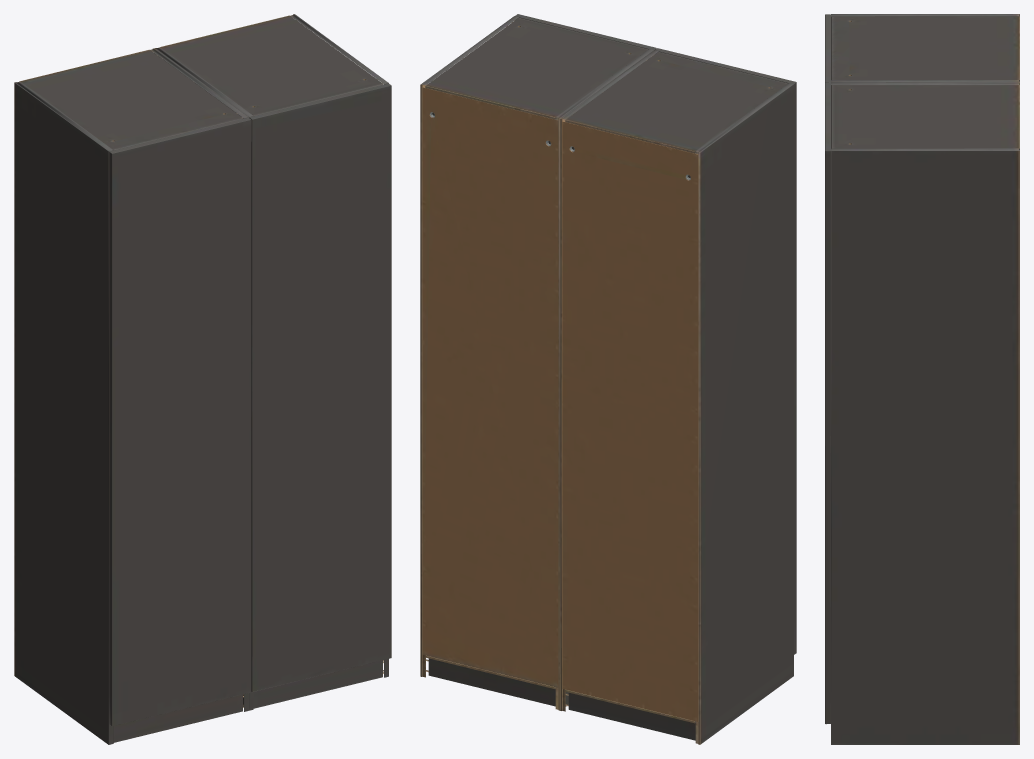
Rendered from 26 - PAX FORSAND Wardrobe combination - dark greydark grey 100x60x201 cm.glb.
3 views of the same model, side by side, from view 1: azimuth 30°, elevation 25°; view 2: azimuth 150°, elevation 25°; view 3: azimuth 270°, elevation 25° (orthographic).
Visible parts, largest first — view 1: 40510924-FORSAND001.001, 40510924-FORSAND001.003, model.001, model.003; view 2: model.001, model.003, 40510924-FORSAND001.001; view 3: model.003, model.001, 40510924-FORSAND001.003, 40510924-FORSAND001.001.
Part boxes in pixels (x1,y1,x2,y2): 40510924-FORSAND001.001: (109, 117, 251, 726); 40510924-FORSAND001.003: (249, 83, 391, 691); model.001: (14, 48, 248, 744); model.003: (155, 14, 388, 710); model.001: (560, 50, 793, 744); model.003: (420, 16, 653, 710); 40510924-FORSAND001.001: (655, 48, 796, 654); model.003: (831, 82, 1019, 744); model.001: (831, 14, 1019, 82); 40510924-FORSAND001.003: (825, 82, 830, 724); 40510924-FORSAND001.001: (825, 14, 830, 82).
Bounding box in the file's own units: 0.9948 × 2.01 × 0.5978.
Materials: 1 (1 with a texture image).
